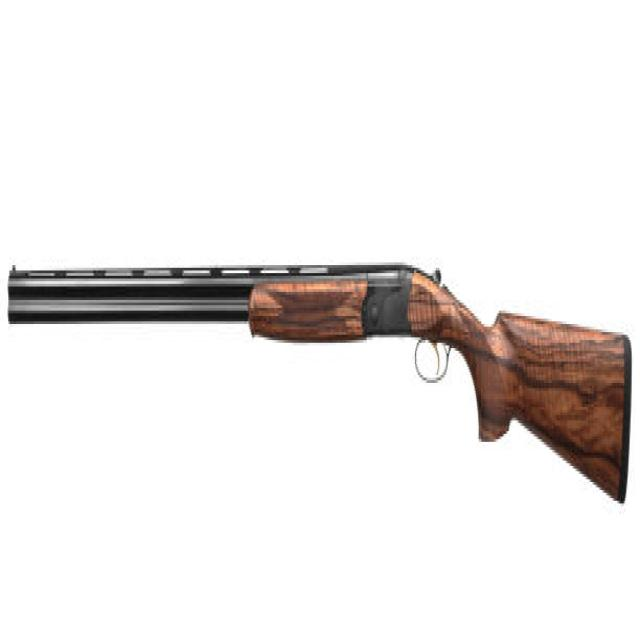rifle: (5, 225, 635, 577)
